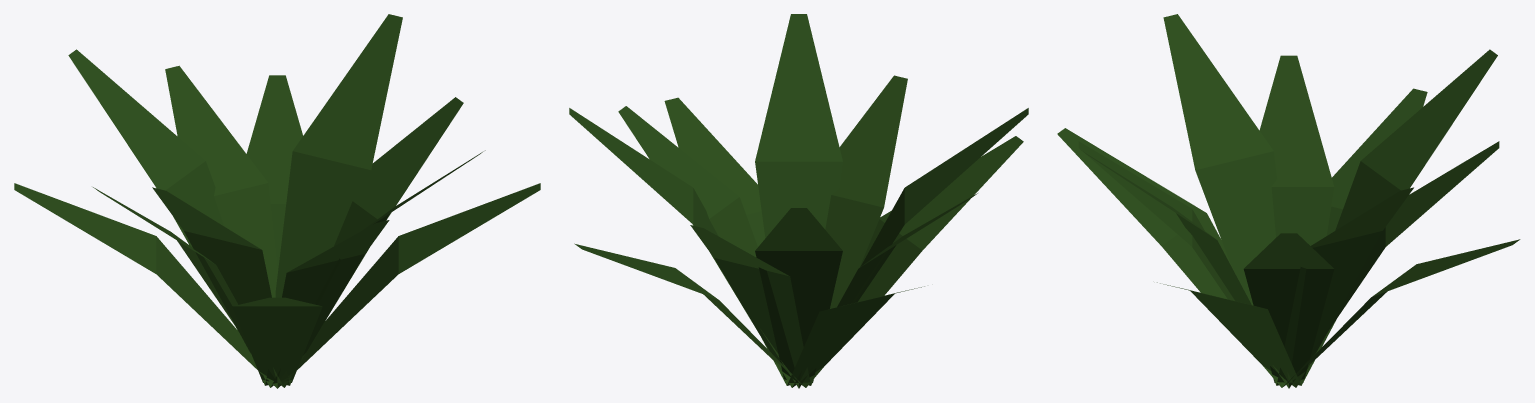
Rendered from perennial-rosette.lod0.glb.
3 renders of one model, left to right at view 1: azimuth 30°, elevation 25°; view 2: azimuth 150°, elevation 25°; view 3: azimuth 270°, elevation 25°, orthographic. The views are drawn at different scales.
Visible parts, largest first — view 1: perennial-rosette-leaves; view 2: perennial-rosette-leaves; view 3: perennial-rosette-leaves.
Part boxes in pixels (x1,y1,x2,y2): perennial-rosette-leaves: [14, 14, 540, 388]; perennial-rosette-leaves: [569, 14, 1028, 388]; perennial-rosette-leaves: [1057, 14, 1520, 388].
Bounding box in the file's own units: 0.4497 × 0.3 × 0.4497.
